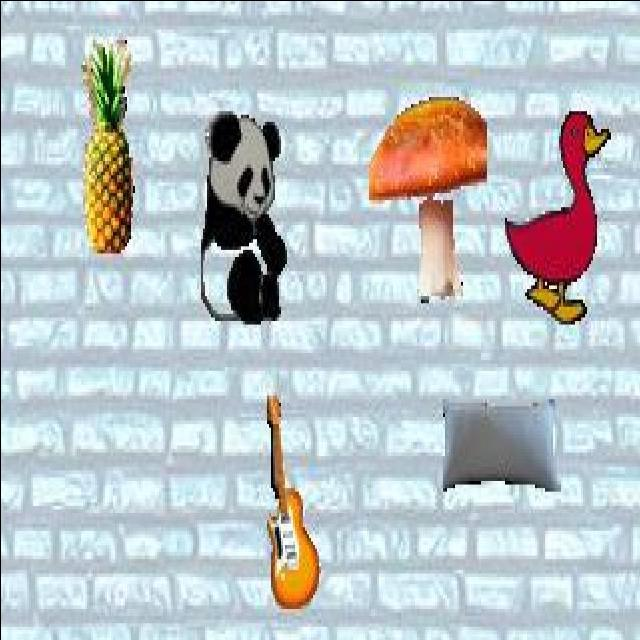Other Objects: (367, 93, 486, 302), (502, 107, 611, 326), (440, 394, 560, 494)
